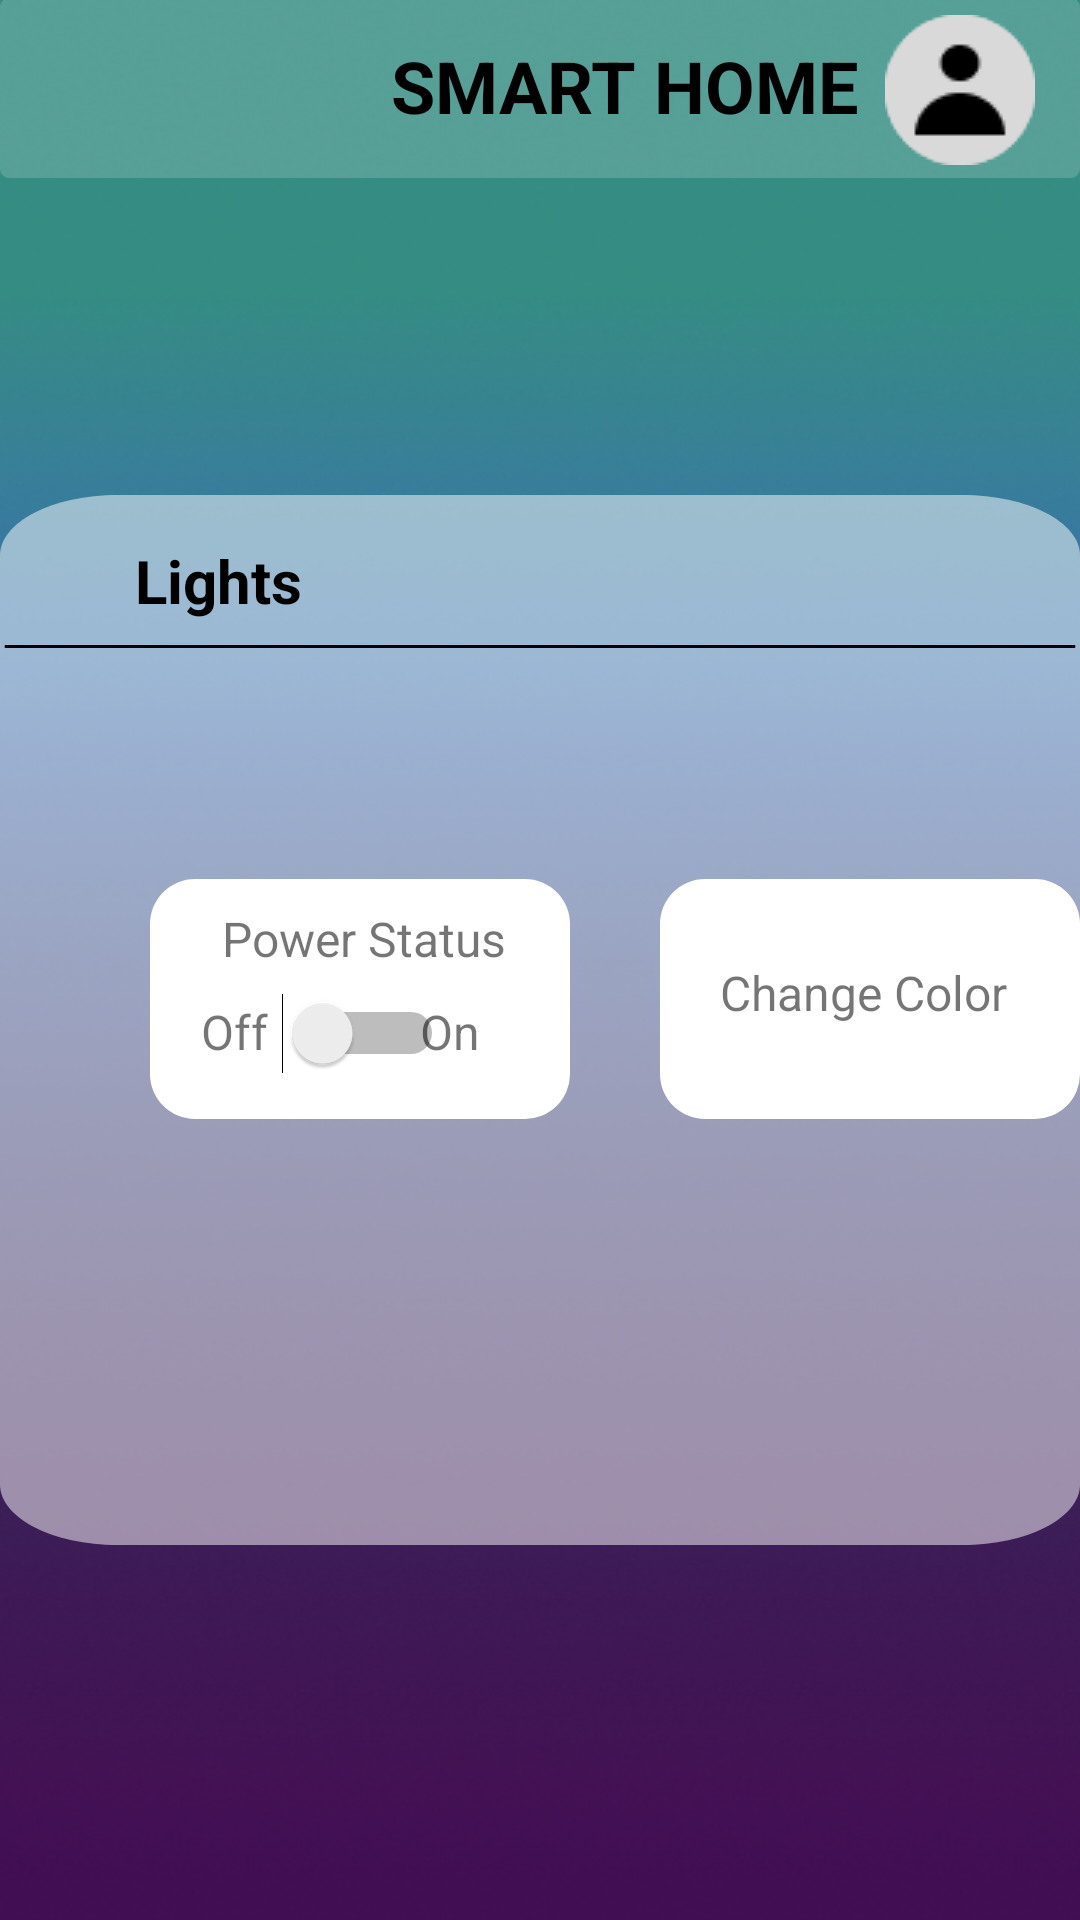

Screen size 1080 x 1920. Icon name, then its box in pixels as (x1, y1, x2, y2):
user: (885, 15, 1035, 165)
